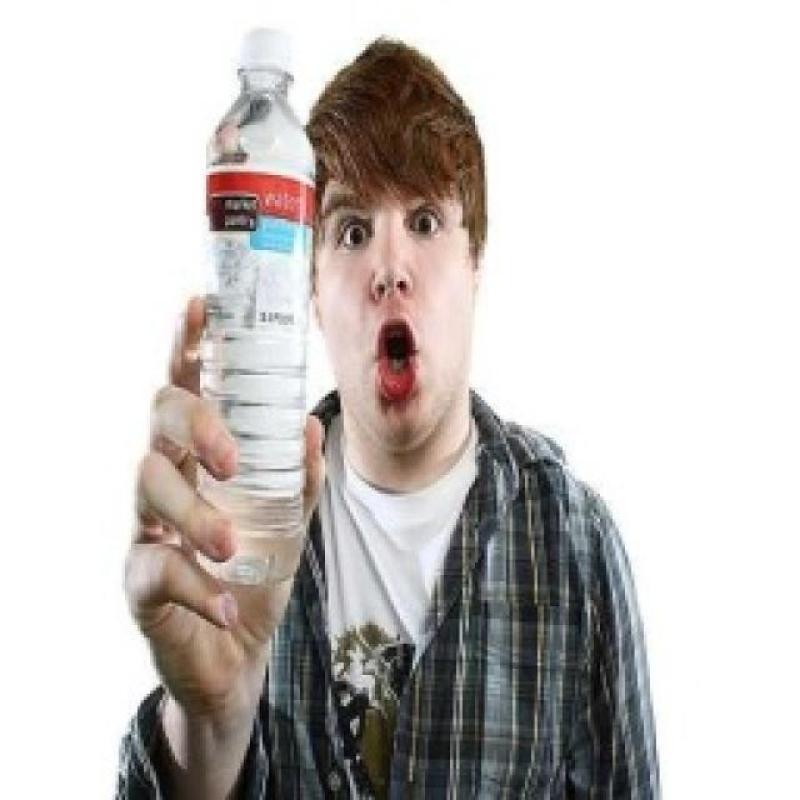botella: (205, 28, 317, 588)
